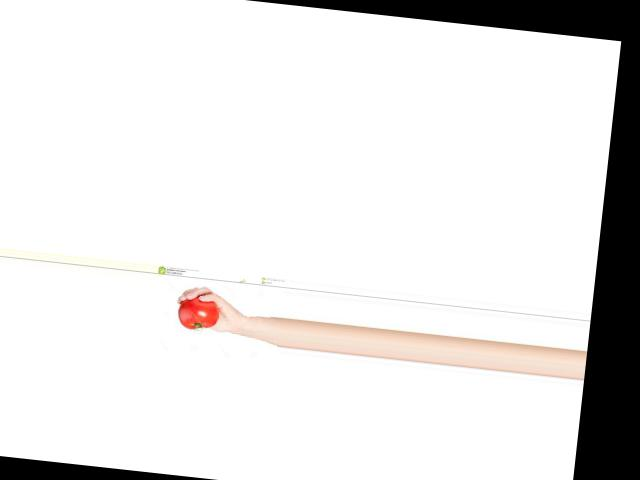tomato: (177, 293, 222, 332)
